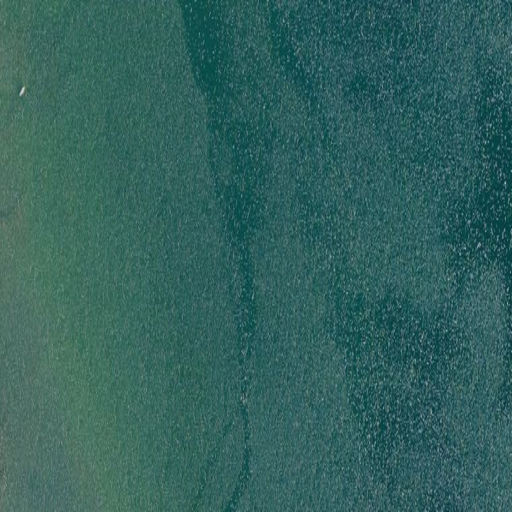ship: (18, 84, 26, 98)
